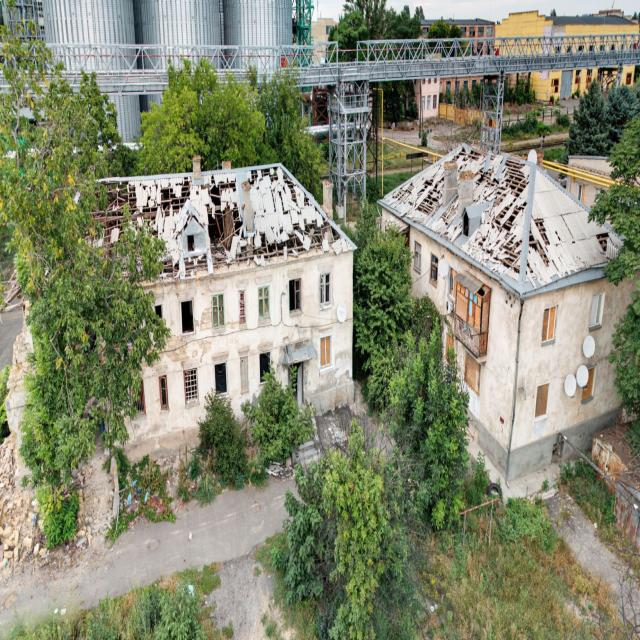broken_window: (128, 377, 146, 418), (588, 291, 605, 330), (541, 306, 556, 344), (534, 383, 549, 419), (184, 368, 198, 406), (180, 298, 194, 334), (257, 284, 270, 322), (211, 293, 224, 328), (288, 278, 301, 312), (214, 362, 227, 394), (319, 272, 330, 308), (158, 374, 169, 410), (259, 351, 271, 384), (320, 335, 331, 368), (238, 288, 245, 324)
building: (376, 139, 639, 490), (74, 156, 358, 465), (0, 0, 294, 150)
roof: (376, 139, 625, 300), (80, 159, 357, 286)
